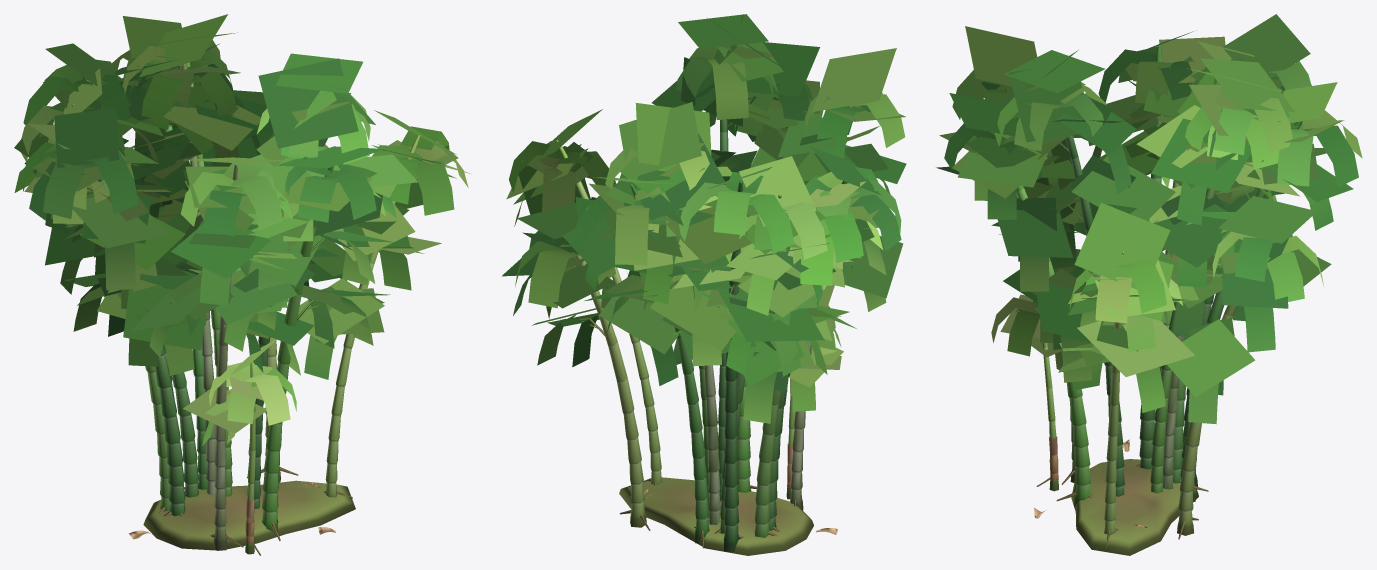
The model's file is tree-stand-wall-v1.glb.
The picture shows the model from 3 angles, left to right: view 1: azimuth 30°, elevation 25°; view 2: azimuth 150°, elevation 25°; view 3: azimuth 270°, elevation 25°; orthographic projection. The views are drawn at different scales.
Parts seen in each view (by area): view 1: culmLeaf, culm; view 2: culmLeaf, culm; view 3: culmLeaf, culm.
Boxes of the visible parts, x1=… form: culmLeaf: x1=14, y1=14, x2=470, y2=445; culm: x1=71, y1=62, x2=420, y2=555; culmLeaf: x1=502, y1=14, x2=906, y2=423; culm: x1=556, y1=52, x2=853, y2=555; culmLeaf: x1=936, y1=14, x2=1362, y2=424; culm: x1=992, y1=45, x2=1302, y2=555.
Size of the model in its own units: 7.97 by 8.79 by 7.37.
